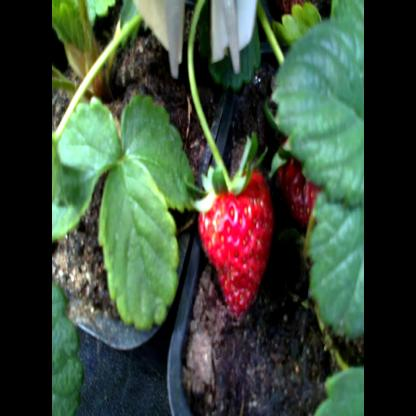ripe: (192, 147, 274, 319), (275, 131, 332, 237)
